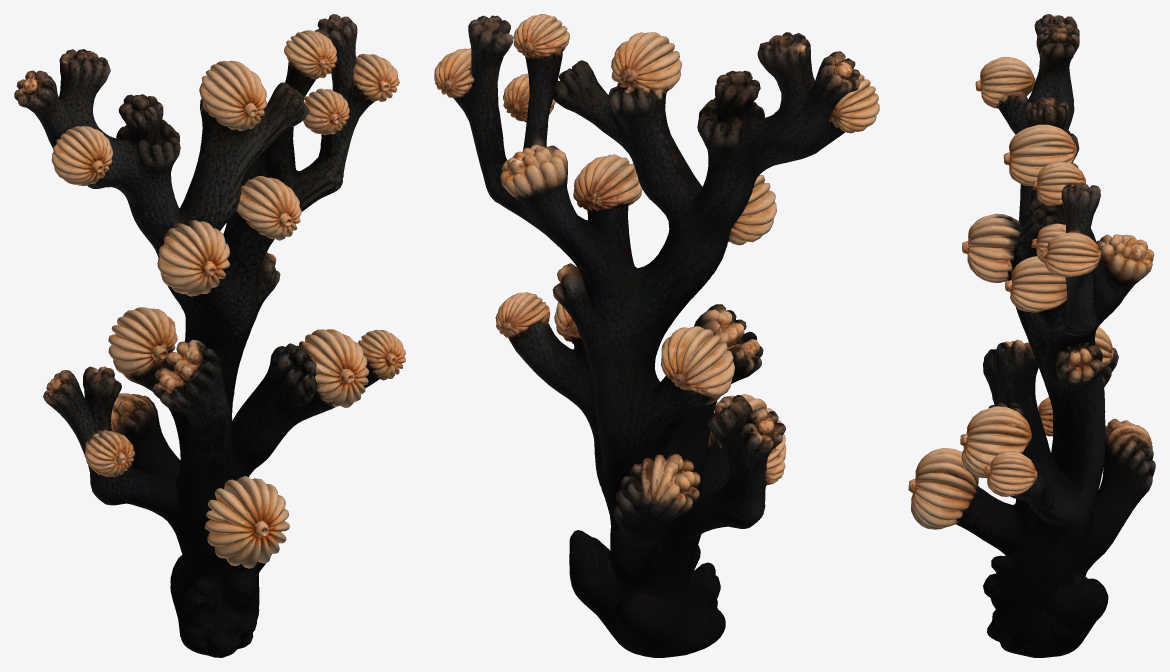
The picture shows the model from 3 angles, left to right: view 1: azimuth 30°, elevation 25°; view 2: azimuth 150°, elevation 25°; view 3: azimuth 270°, elevation 25°; orthographic projection. The views are drawn at different scales.
Bounding box in the file's own units: 0.6958 × 1.05 × 0.4159.
1 material, 1 textured.
